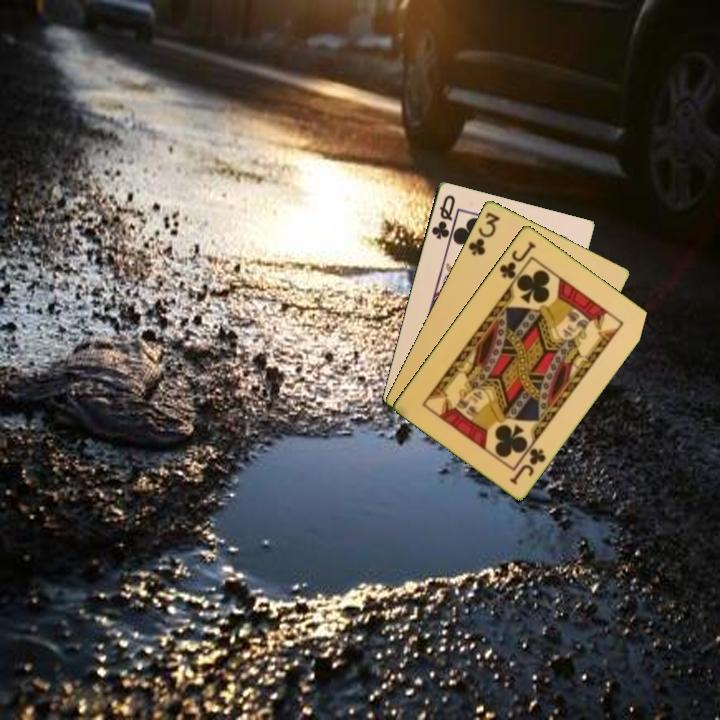3c: (464, 208, 502, 258)
Jc: (495, 237, 539, 282), (506, 444, 549, 487)
Qc: (428, 191, 458, 242)
